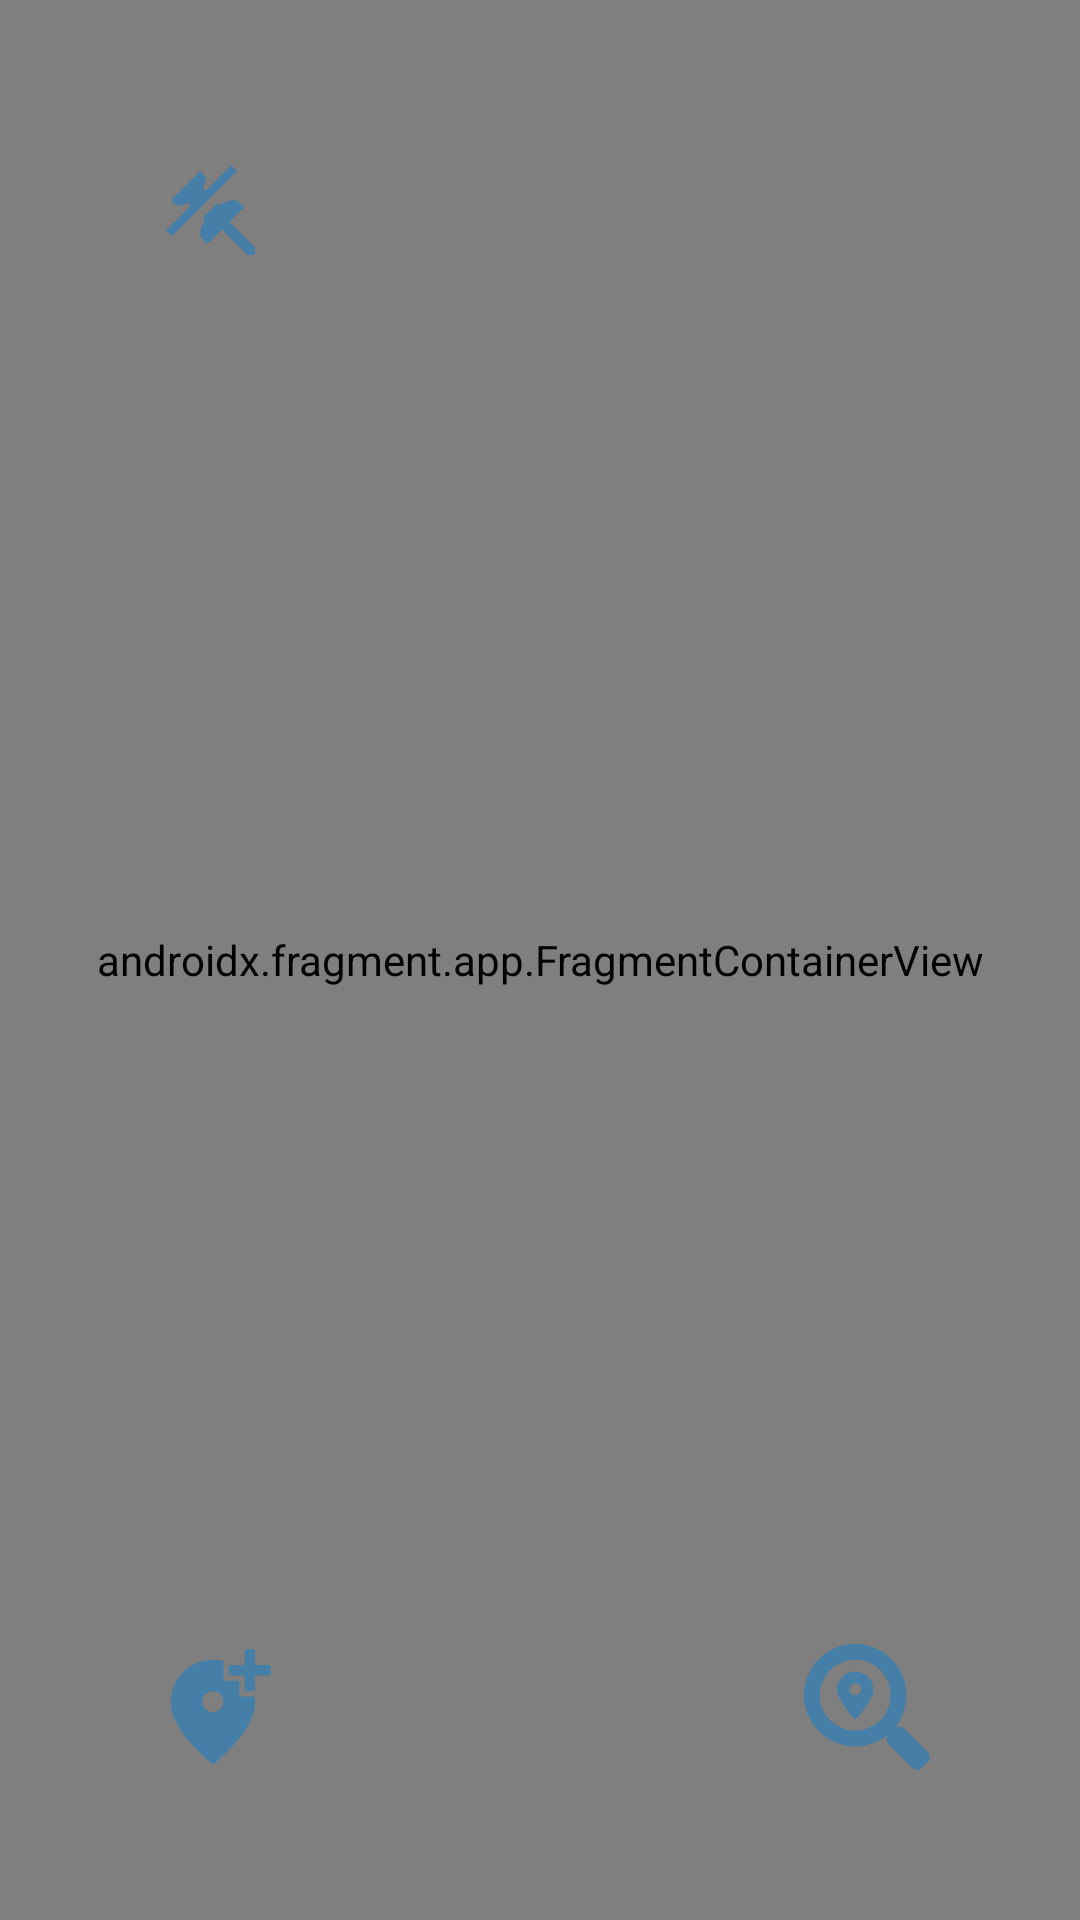

Icon bounding boxes for this 1080 × 1920 phone screenshot, format (x1, y1, x2, y2):
location: (171, 1649, 271, 1764)
location search: (804, 1644, 930, 1770)
unpin: (166, 165, 255, 255)
